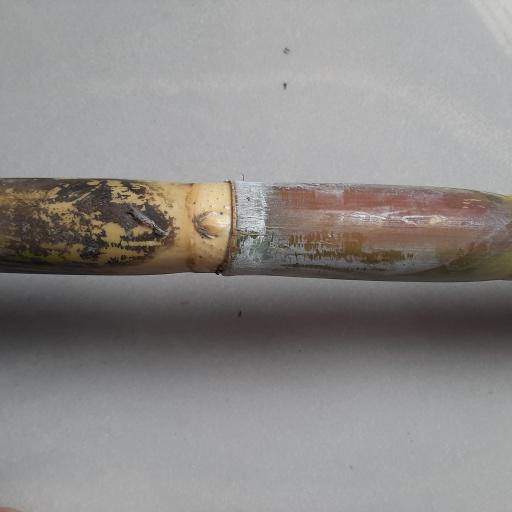Bud: (191, 211, 229, 237)
